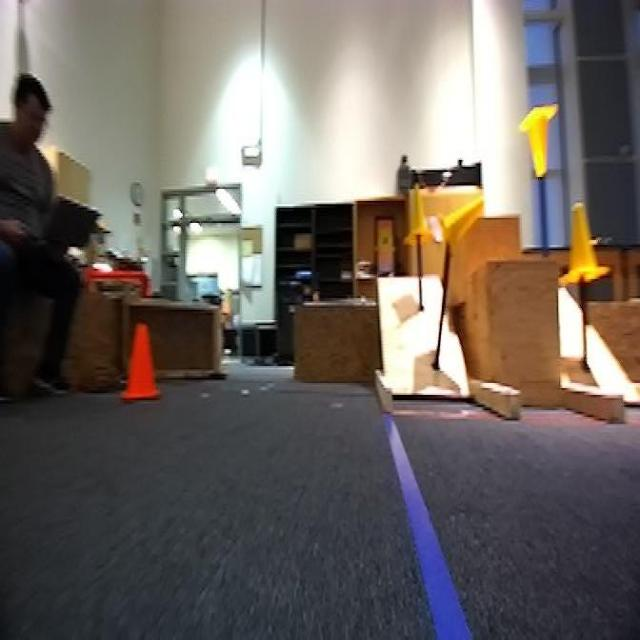frc_cone: (559, 202, 607, 288), (437, 192, 486, 250), (518, 106, 557, 177), (407, 187, 434, 252)
